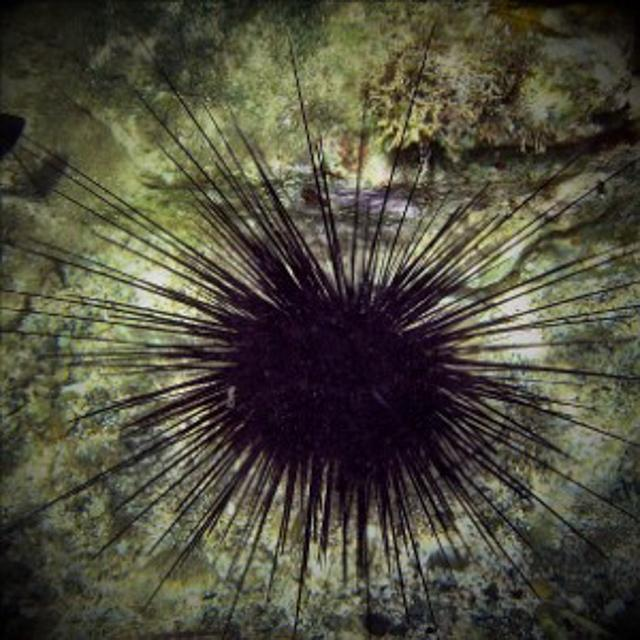Urchin: (32, 33, 621, 573)
